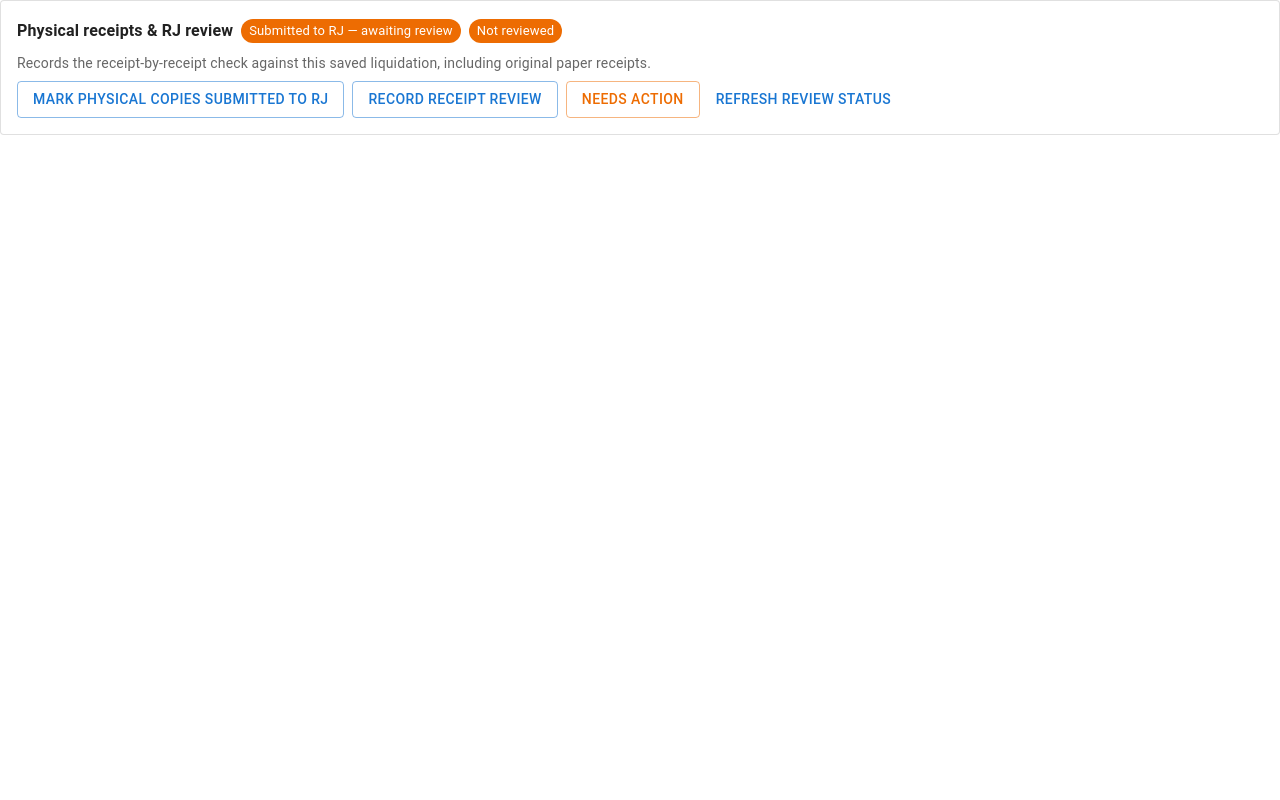
Test: conflict keeps the review unsaved and allows status refresh
Expected: the text "Not reviewed" is shown, [477,23,554,38]
Click the button "Record receipt review" at {"x": 455, "y": 99}, box [352,81,558,118]
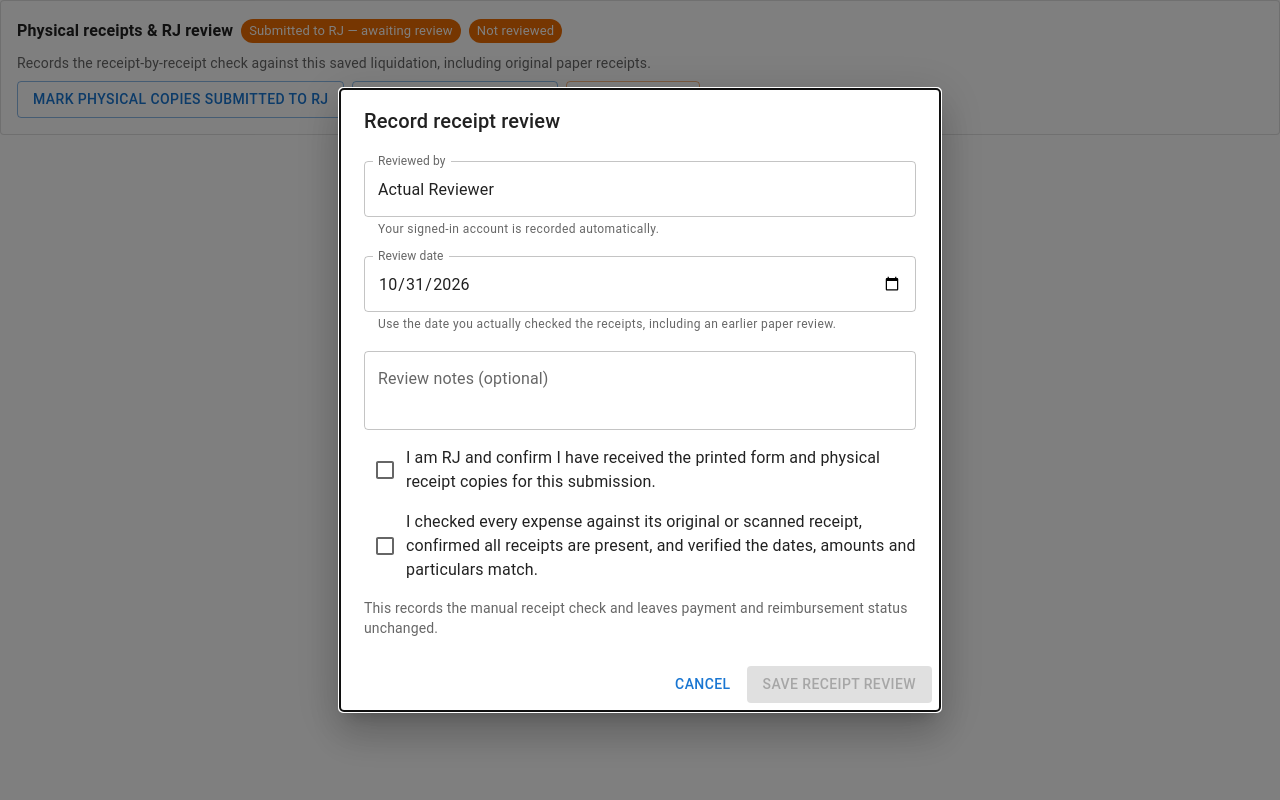
Click the 1st checkbox at {"x": 640, "y": 470}, box [364,446,916,494]
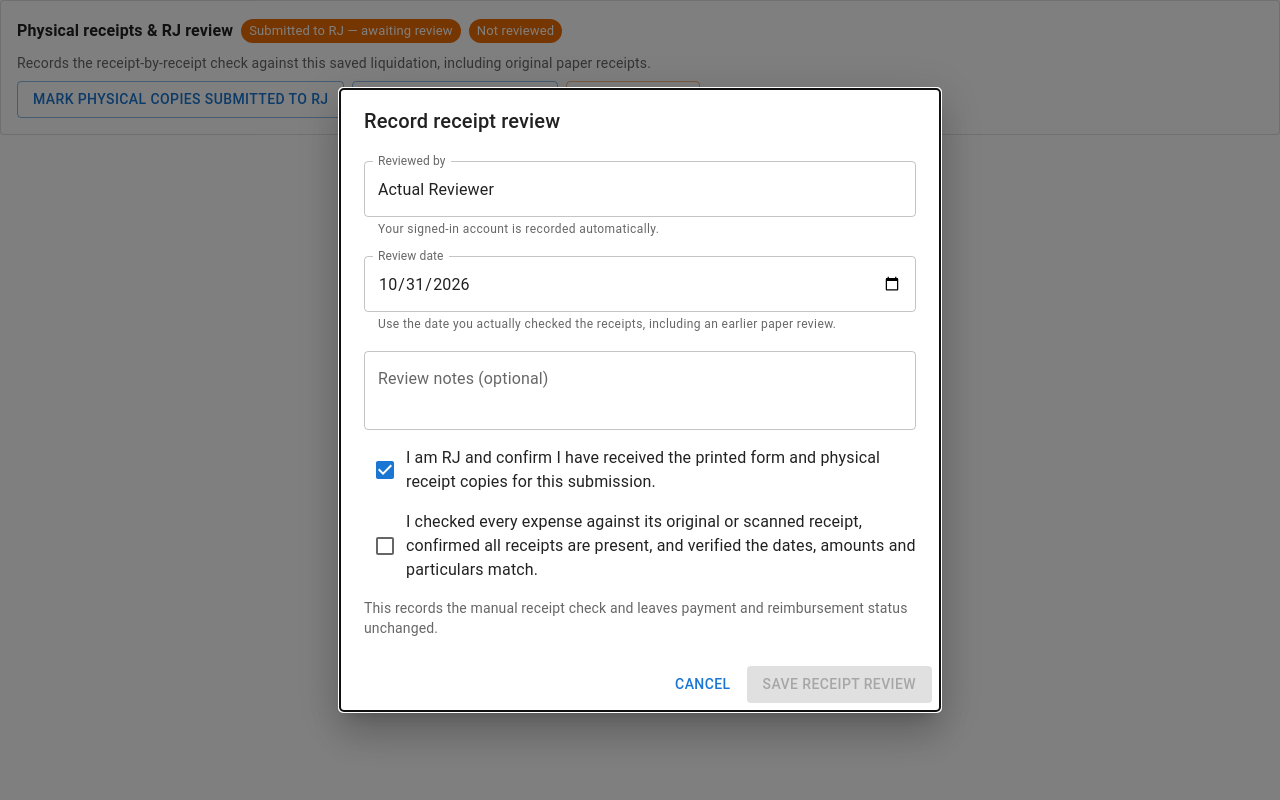
Click the 2nd checkbox at {"x": 640, "y": 546}, box [364,510,916,582]
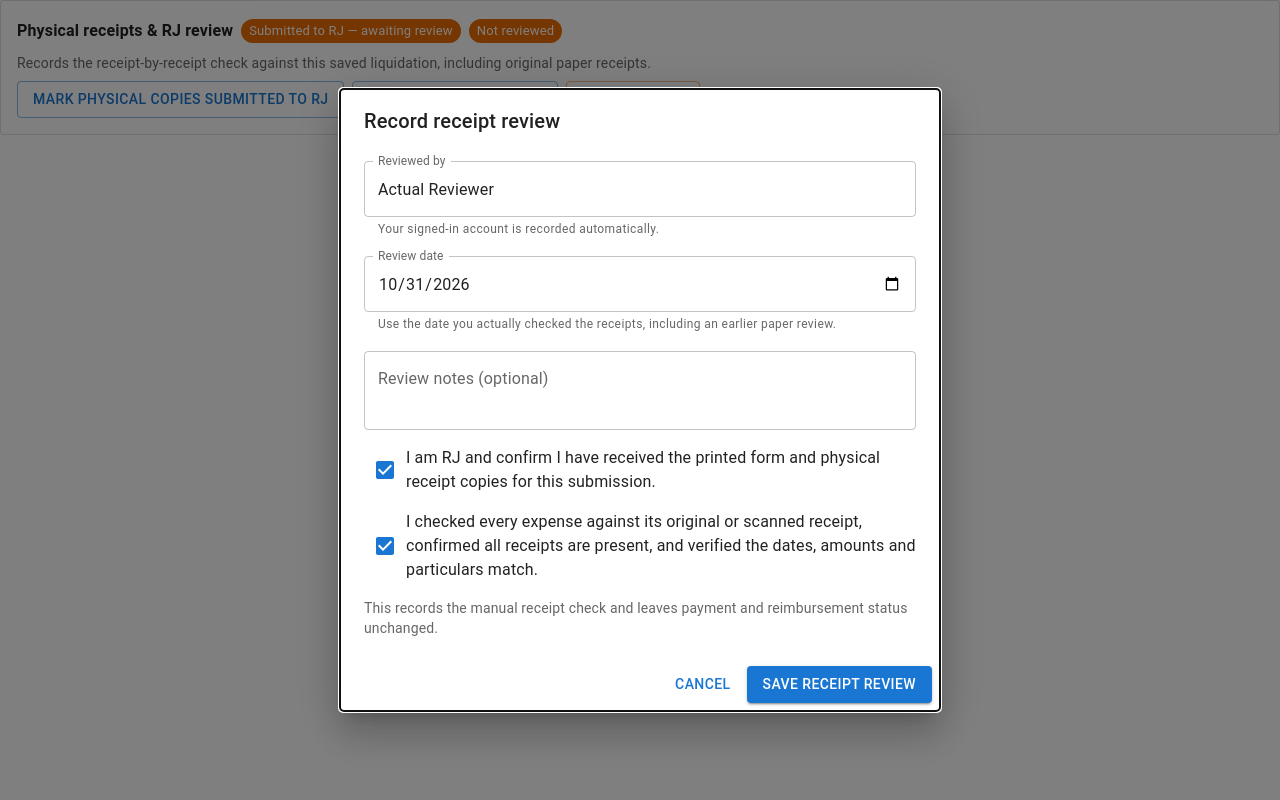
Click the button "Save receipt review" at {"x": 839, "y": 684}, box [747,666,932,703]
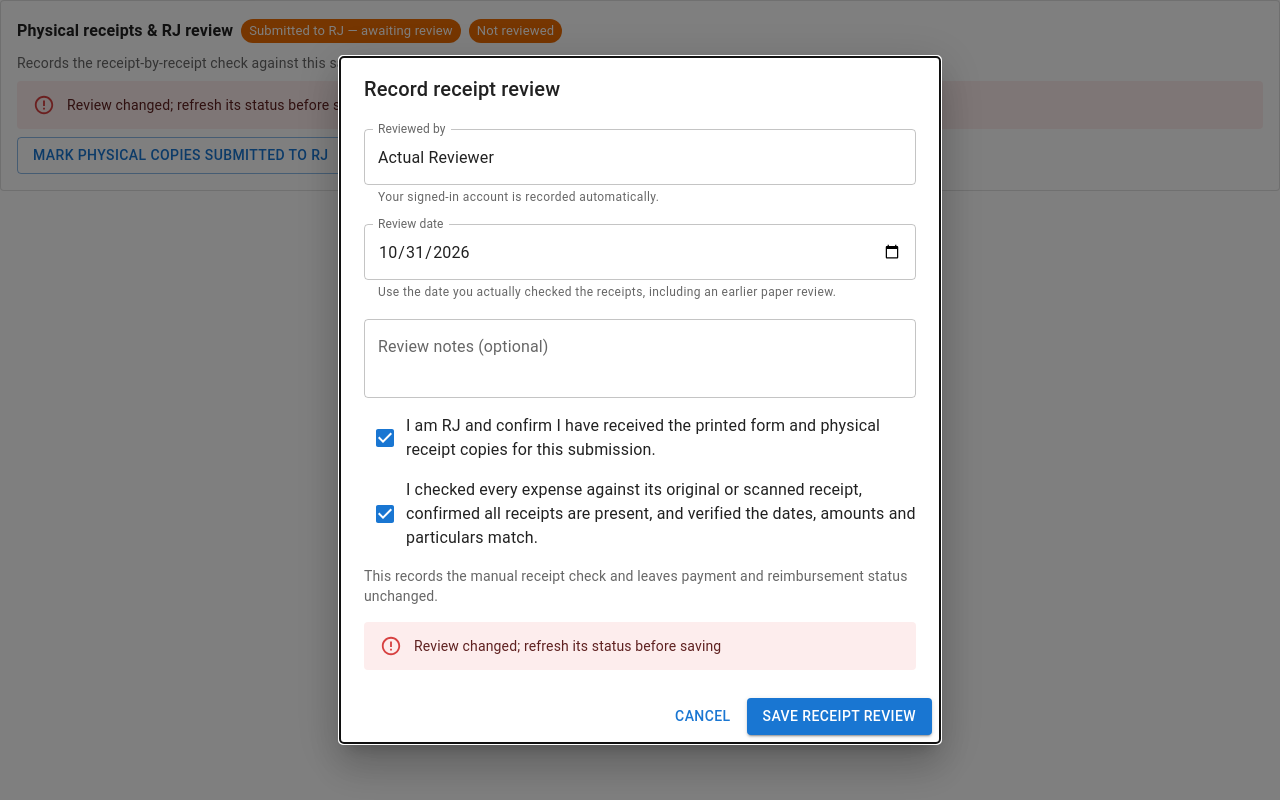
Result: the text "Review changed; refresh its status before saving" below "Physical receipts & RJ review" is shown at [67,97,374,113]
Click the button "Cancel" at {"x": 703, "y": 716}, box [667,698,739,735]
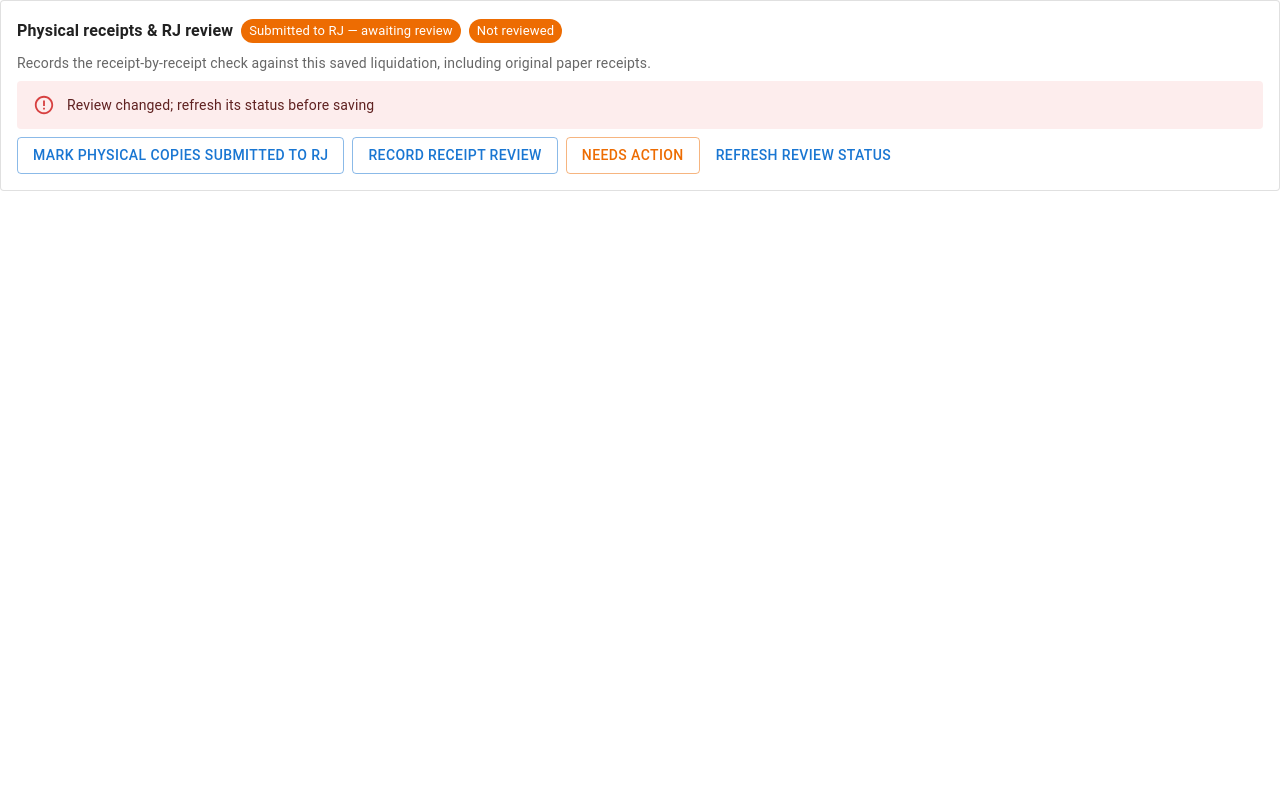
Click the button "Refresh review status" at {"x": 803, "y": 155}, box [708,137,899,174]
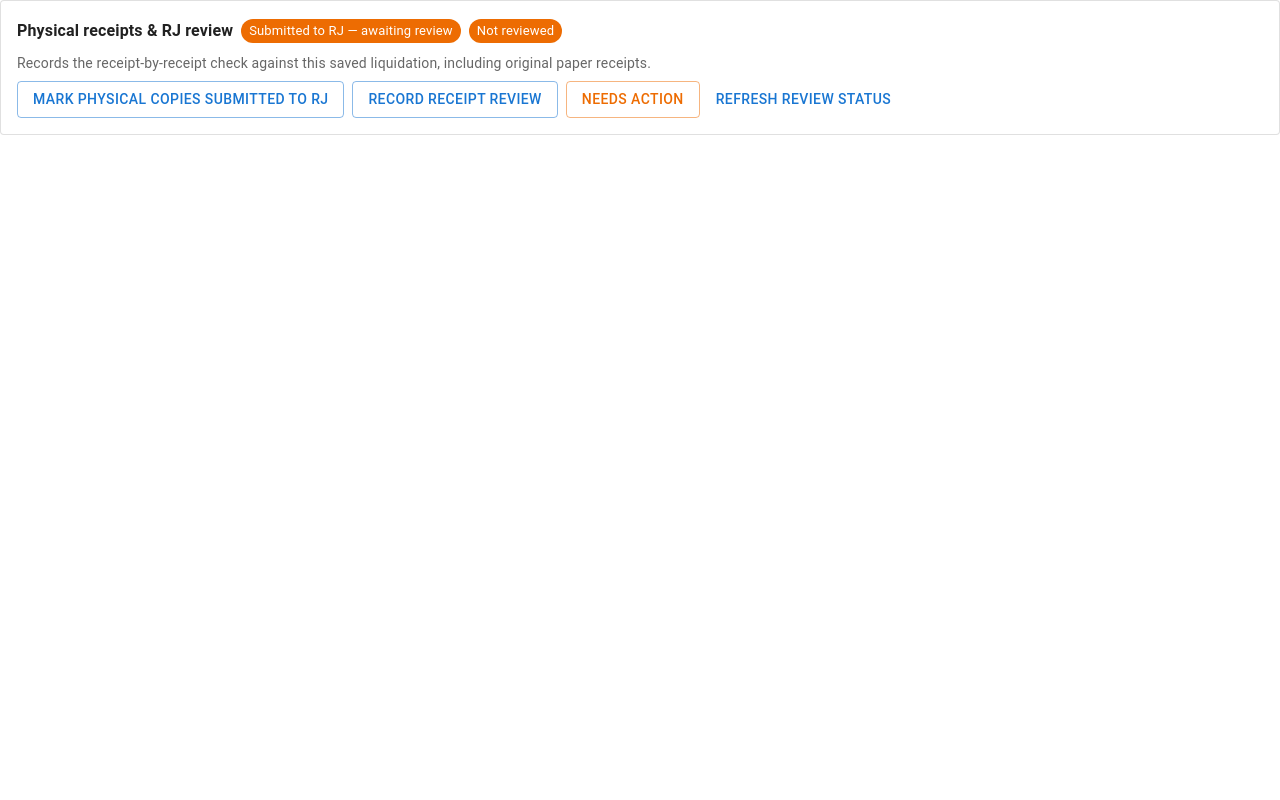
Result: the text "Review changed; refresh its status before saving" is gone
